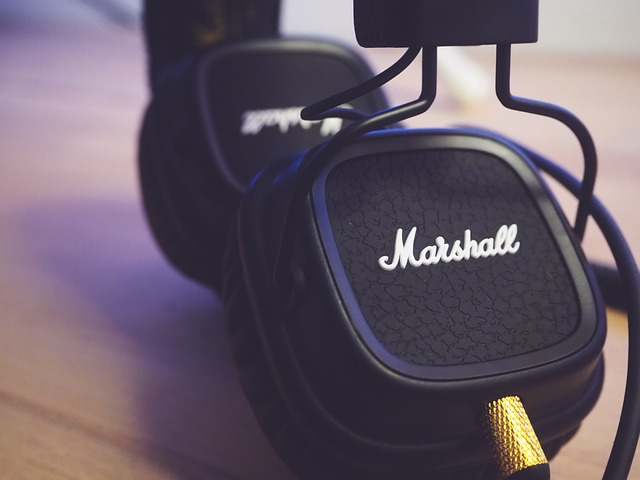headphones: (136, 1, 608, 480)
